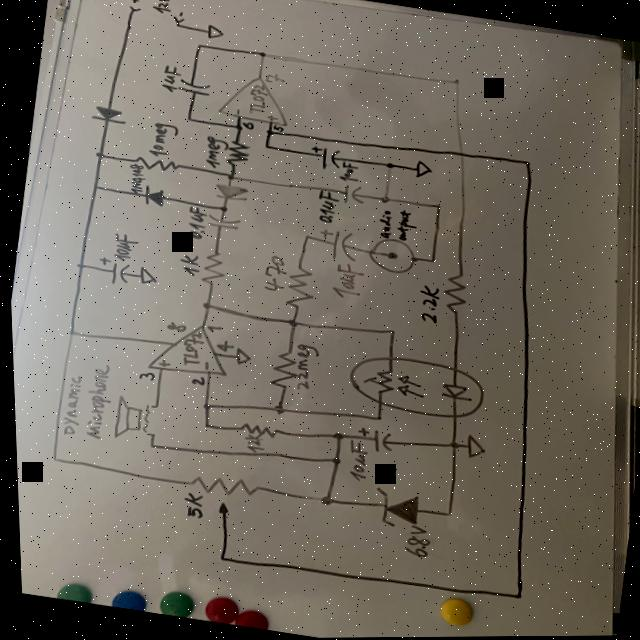capacitor: (313, 228, 357, 266), (90, 257, 131, 288), (350, 426, 391, 457), (305, 145, 343, 174), (174, 78, 211, 99), (203, 215, 239, 234), (338, 183, 364, 208)
crossover: (454, 152, 464, 159)
diode: (365, 487, 419, 534), (207, 180, 248, 204), (87, 104, 126, 127), (138, 185, 165, 210)
ground: (457, 434, 484, 462), (409, 159, 432, 182), (134, 267, 157, 288), (203, 24, 224, 42), (229, 349, 248, 367)
junction: (267, 403, 284, 418), (312, 494, 330, 508), (209, 553, 226, 566), (281, 318, 297, 330), (327, 431, 340, 443), (325, 456, 338, 468), (443, 441, 456, 452), (197, 301, 210, 312), (519, 159, 532, 170), (506, 592, 520, 602), (196, 402, 209, 412), (223, 172, 235, 182), (92, 151, 104, 161), (259, 142, 271, 152), (73, 262, 84, 271), (383, 329, 394, 338), (256, 51, 267, 60), (377, 196, 388, 205), (382, 163, 393, 172), (369, 415, 380, 423), (299, 234, 310, 242), (438, 511, 449, 519), (197, 422, 208, 430), (430, 204, 441, 212), (424, 258, 435, 266), (88, 183, 98, 191), (63, 330, 73, 338), (142, 444, 153, 451), (450, 79, 460, 86), (215, 206, 225, 213), (263, 129, 273, 136), (45, 456, 54, 463), (183, 116, 192, 123), (193, 43, 202, 50), (232, 125, 241, 132), (174, 24, 178, 28)
resistor: (176, 470, 261, 526), (278, 264, 317, 312), (435, 270, 470, 321), (261, 347, 297, 394), (194, 249, 226, 288), (134, 154, 182, 177), (232, 420, 278, 442), (221, 139, 250, 169)
terminal: (361, 236, 418, 278), (171, 16, 185, 24), (127, 5, 140, 13)
text: (74, 360, 112, 441), (54, 373, 83, 437), (286, 343, 319, 394), (337, 439, 372, 487), (324, 262, 364, 303), (409, 284, 441, 327), (144, 120, 178, 160), (256, 254, 287, 296), (197, 133, 229, 171), (175, 329, 204, 370), (396, 526, 429, 562), (106, 232, 137, 264), (312, 189, 338, 227), (179, 207, 207, 242), (391, 209, 417, 244), (244, 82, 269, 118), (174, 492, 203, 521), (156, 64, 181, 95), (332, 159, 360, 186), (122, 163, 145, 195), (174, 253, 200, 278), (373, 209, 393, 240), (238, 433, 262, 454), (149, 0, 174, 16), (262, 72, 286, 86), (211, 339, 232, 354), (161, 321, 184, 334), (132, 370, 153, 383), (185, 375, 203, 387), (201, 324, 220, 335), (152, 358, 169, 370), (238, 120, 253, 132), (264, 114, 277, 124), (197, 360, 208, 371), (270, 125, 283, 133), (232, 108, 241, 116), (176, 10, 183, 17), (128, 0, 139, 4)
